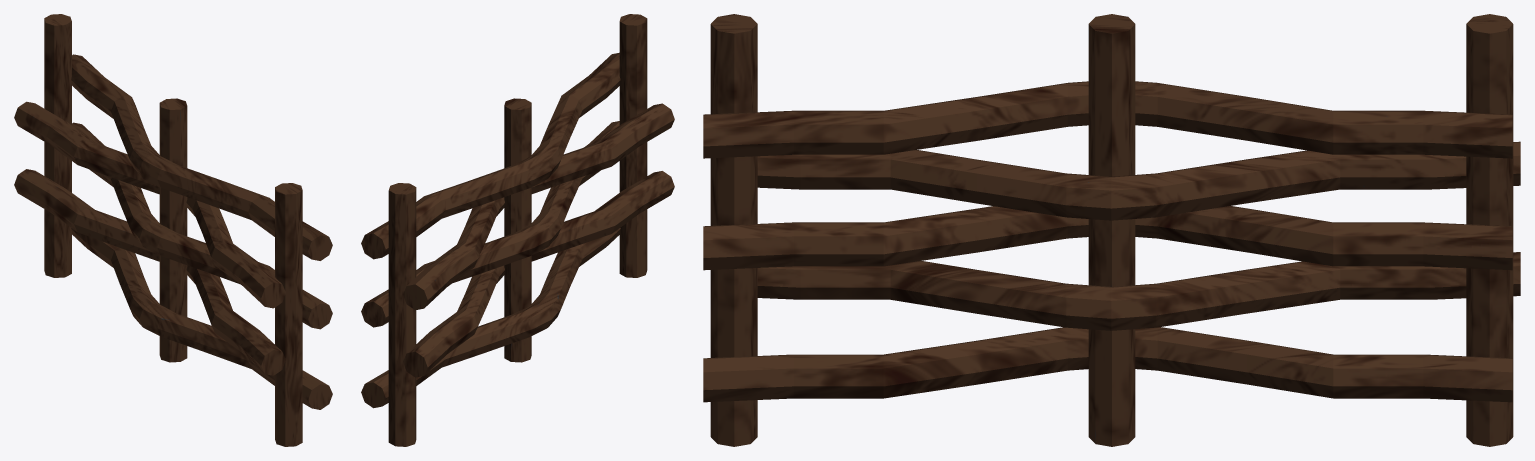
Rendered from fence.fbx.
3 renders of one model, left to right at view 1: azimuth 30°, elevation 25°; view 2: azimuth 150°, elevation 25°; view 3: azimuth 270°, elevation 25°, orthographic. The views are drawn at different scales.
Parts seen in each view (by area): view 1: Cylinder.001; view 2: Cylinder.001; view 3: Cylinder.001.
Part boxes in pixels (x1,y1,x2,y2): Cylinder.001: [14, 14, 332, 446]; Cylinder.001: [361, 14, 674, 446]; Cylinder.001: [703, 14, 1520, 446].
Bounding box in the file's own units: 86.57 × 302 × 541.
1 material, 1 textured.
